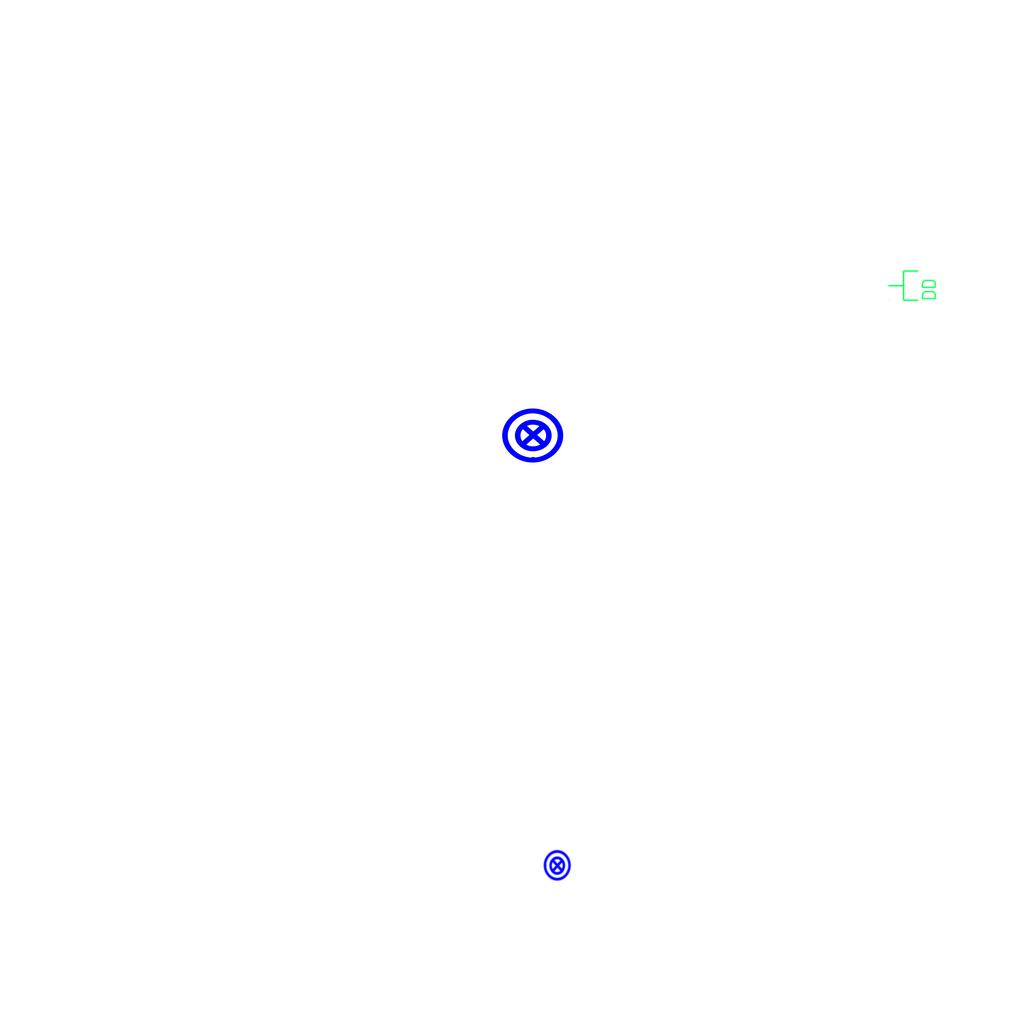Datenanschluss_zweifach: (887, 269, 938, 303)
Taster_beleuchtet: (500, 402, 566, 468), (541, 849, 574, 882)
